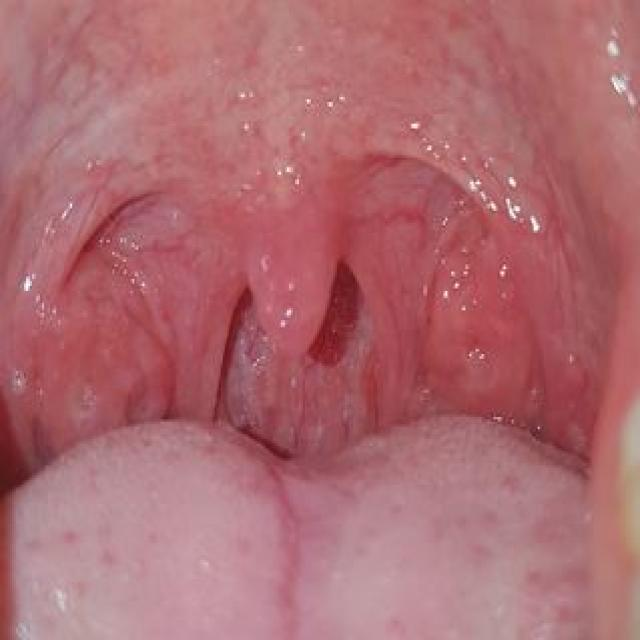Non Pharyngitis: (25, 230, 236, 444), (379, 220, 559, 420)
